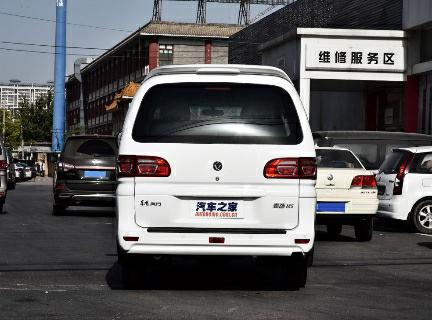东风风行-菱智: (106, 63, 323, 284)
